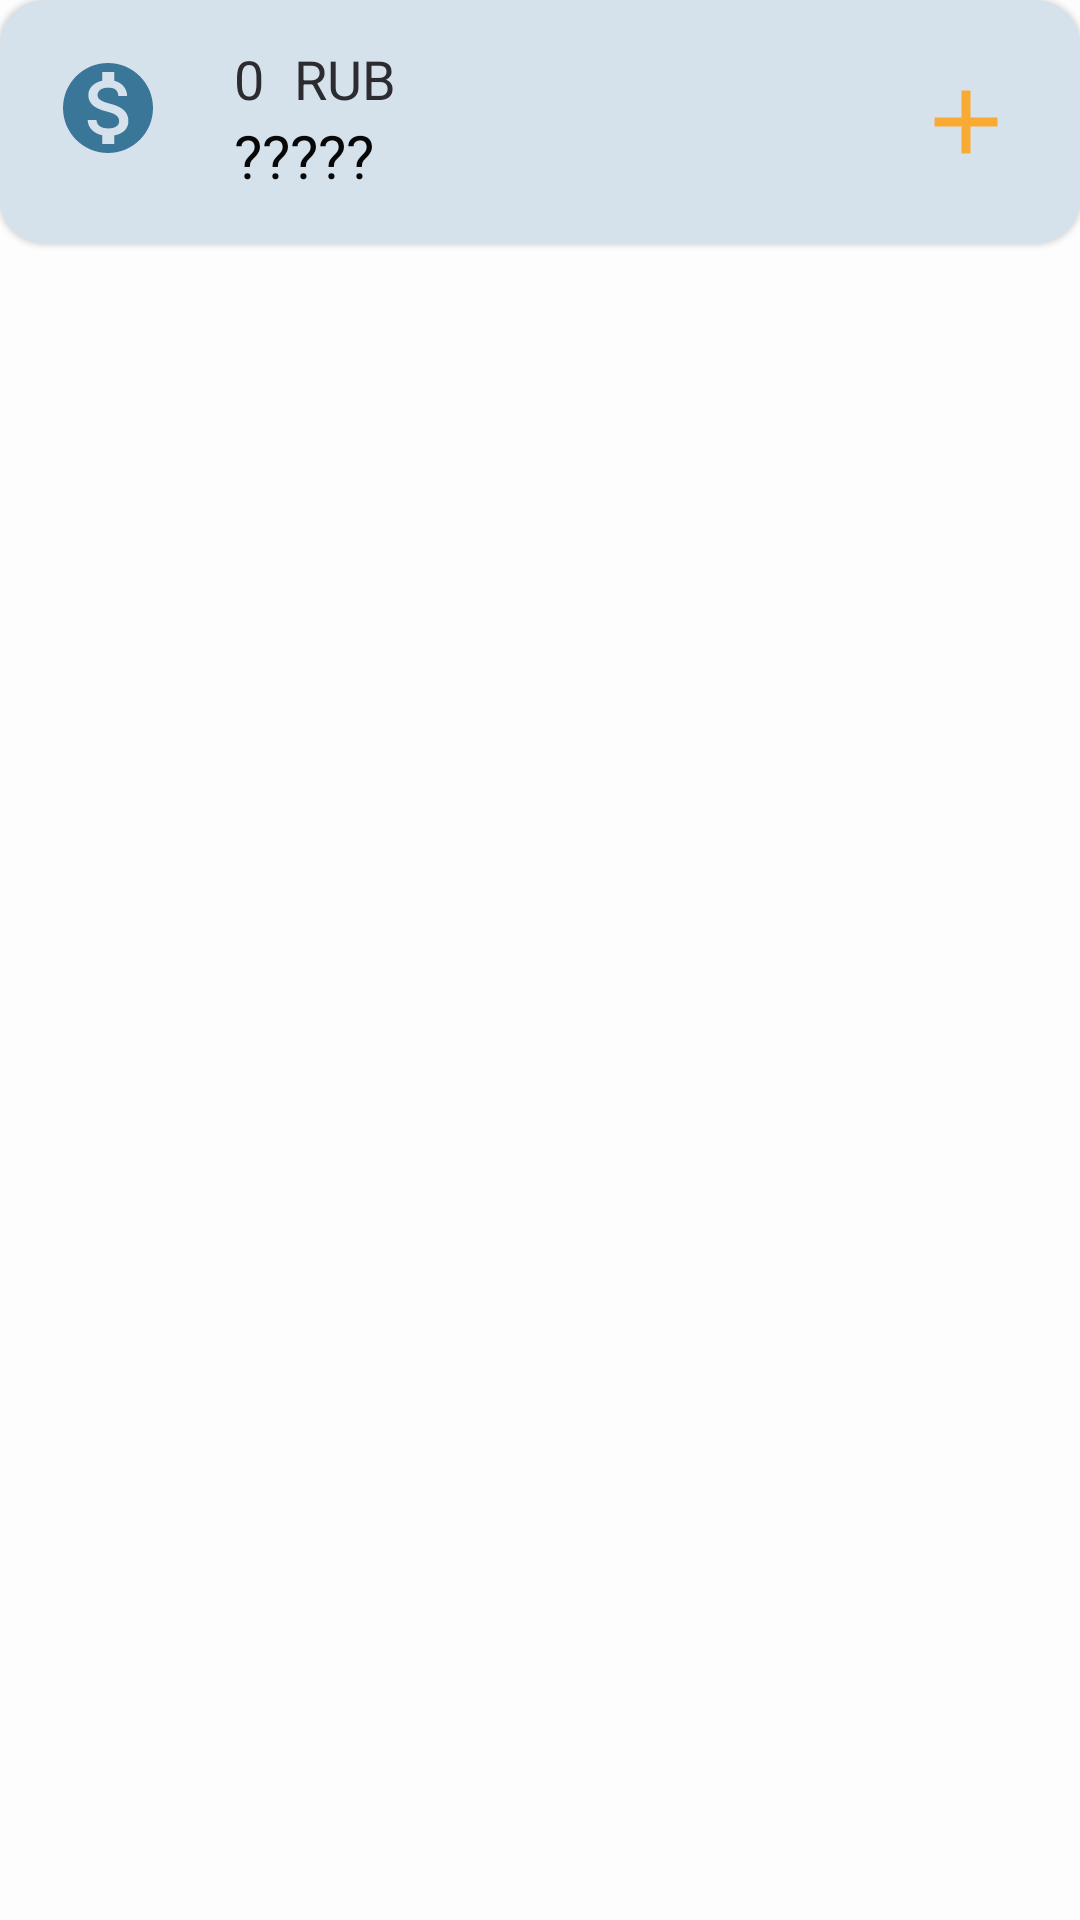

Where to tap for icons on this 1080px x 1920px app screen, as (x,y):
plus: (966,122)
